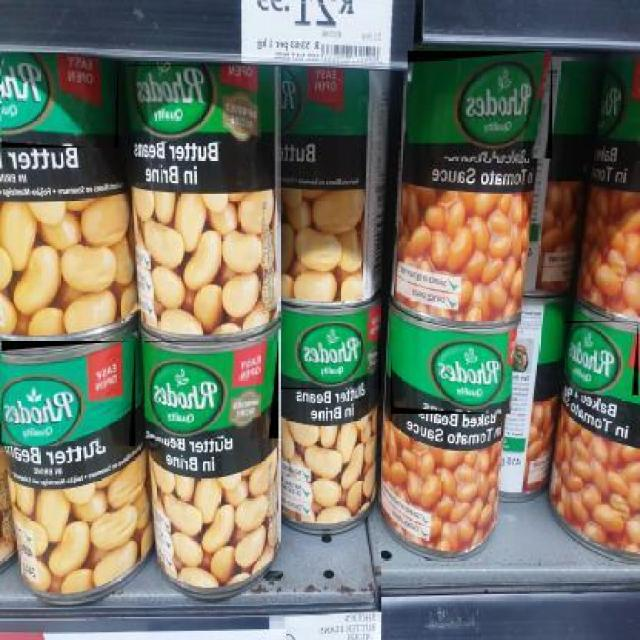Beans: (406, 51, 552, 160), (0, 340, 135, 447), (142, 340, 278, 440), (126, 64, 272, 145), (0, 52, 118, 149), (390, 331, 512, 415), (278, 308, 380, 392), (563, 320, 639, 397)
